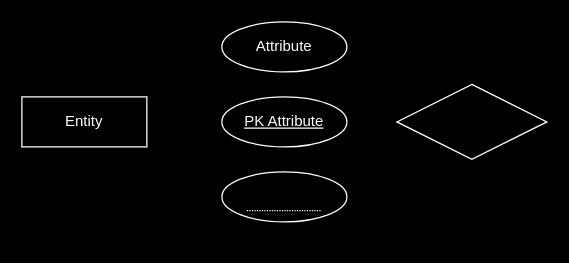
The diagram is 569 pixels wide and 263 high, and some of its shapes have lost their labels. The centre of each missing label's shape, as x and y in pixels:
"FK Attribute" belongs at point 284,196.
"Relationship" belongs at point 471,121.
